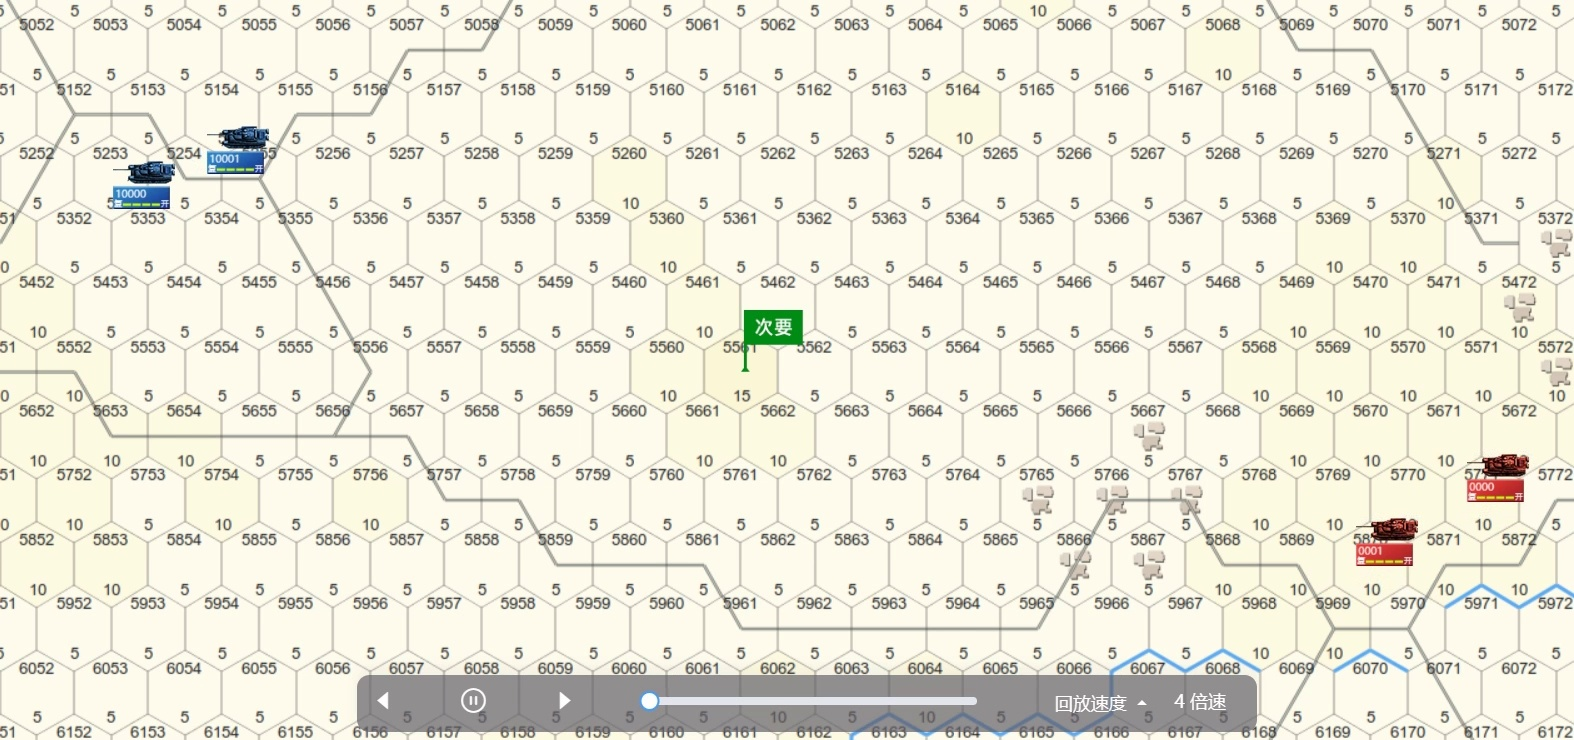blue_tank: (117, 154, 170, 216), (208, 124, 272, 172)
red_tank: (1459, 453, 1532, 509), (1351, 521, 1420, 565)
